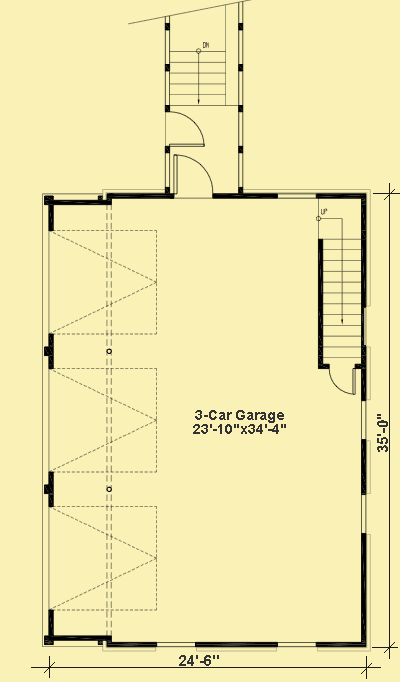door: (170, 152, 214, 198), (164, 108, 210, 149), (325, 365, 357, 396)
stairs: (317, 201, 366, 369), (164, 6, 227, 108)
window: (269, 638, 322, 652), (357, 397, 372, 444), (150, 640, 198, 654), (273, 187, 316, 202), (361, 490, 374, 534), (358, 399, 369, 444)
